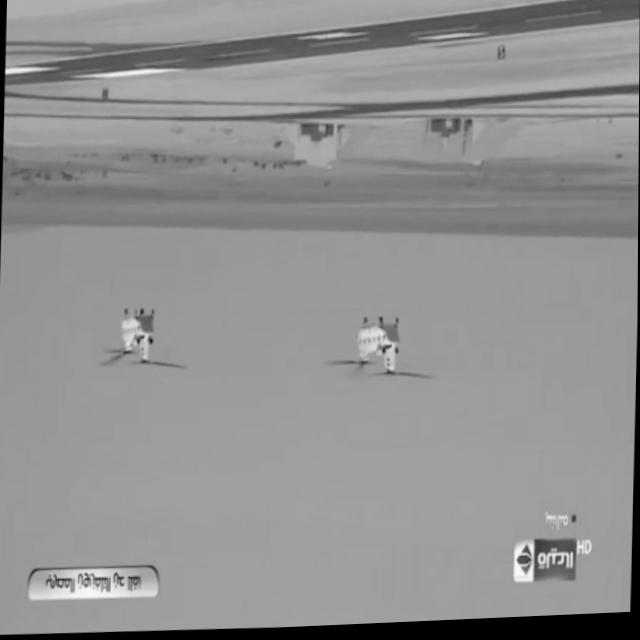helikopter: (324, 295, 427, 419), (93, 299, 183, 392)
